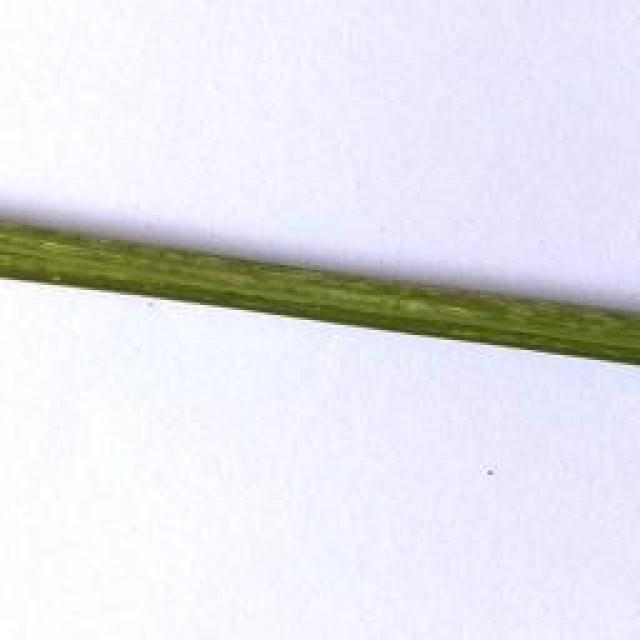Healthy-Plant: (0, 211, 640, 366)
